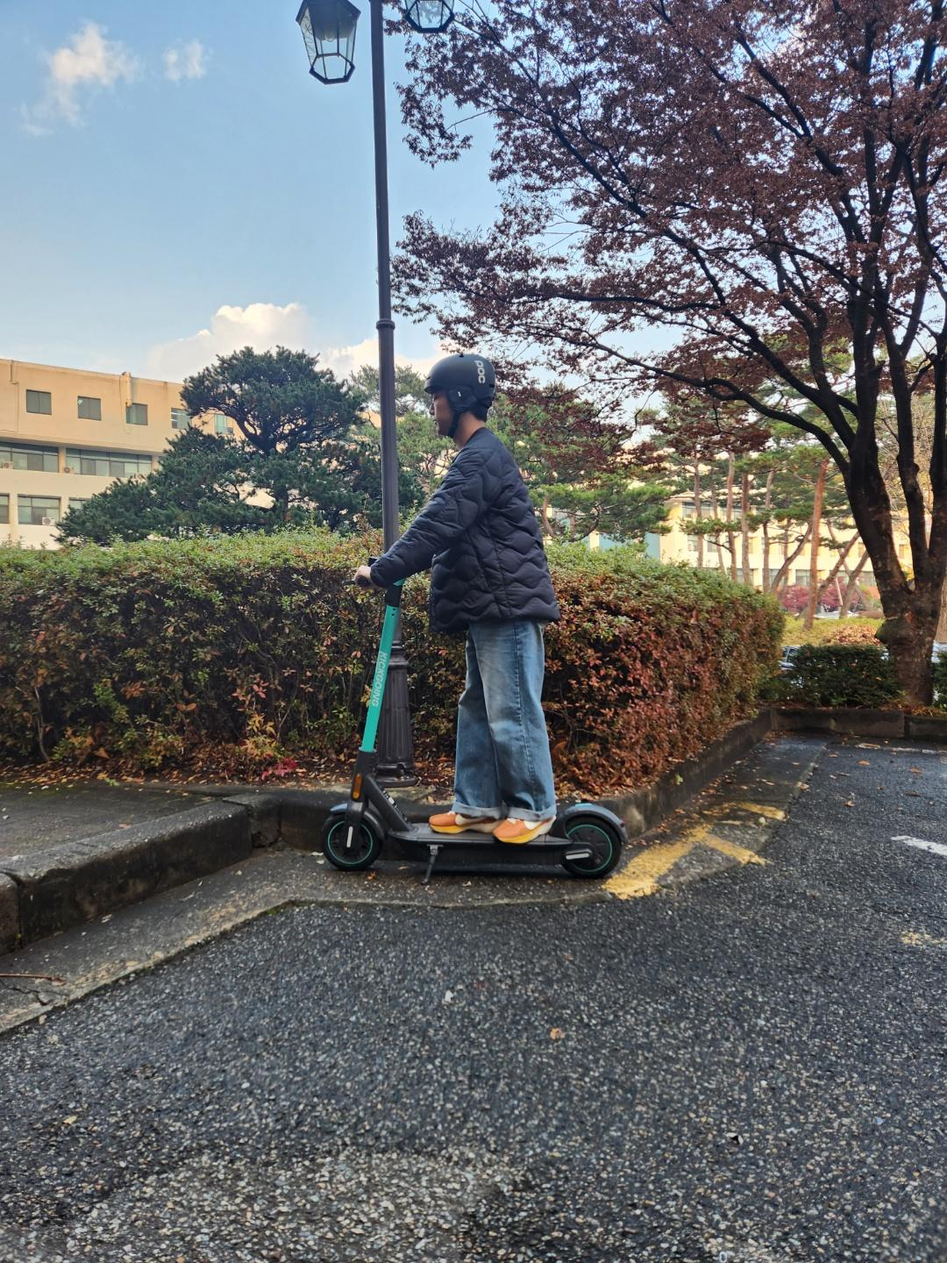helmet: (412, 350, 519, 454)
human: (355, 352, 564, 835)
kickboard: (305, 799, 638, 888)
